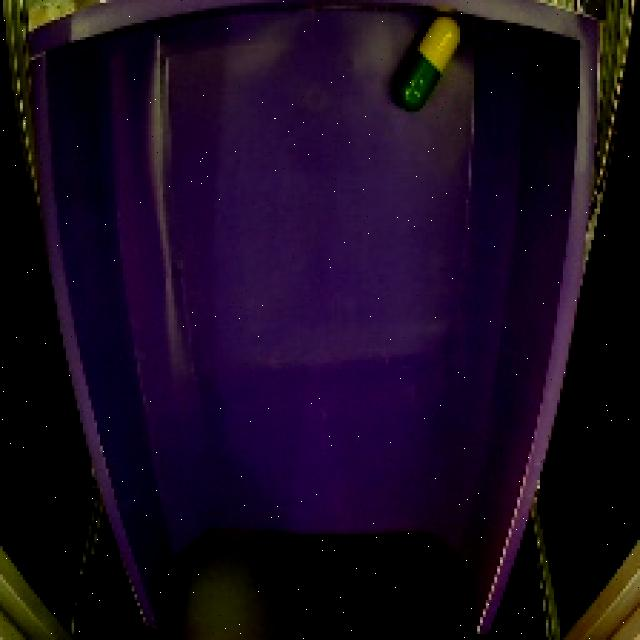small: (381, 9, 468, 120)
